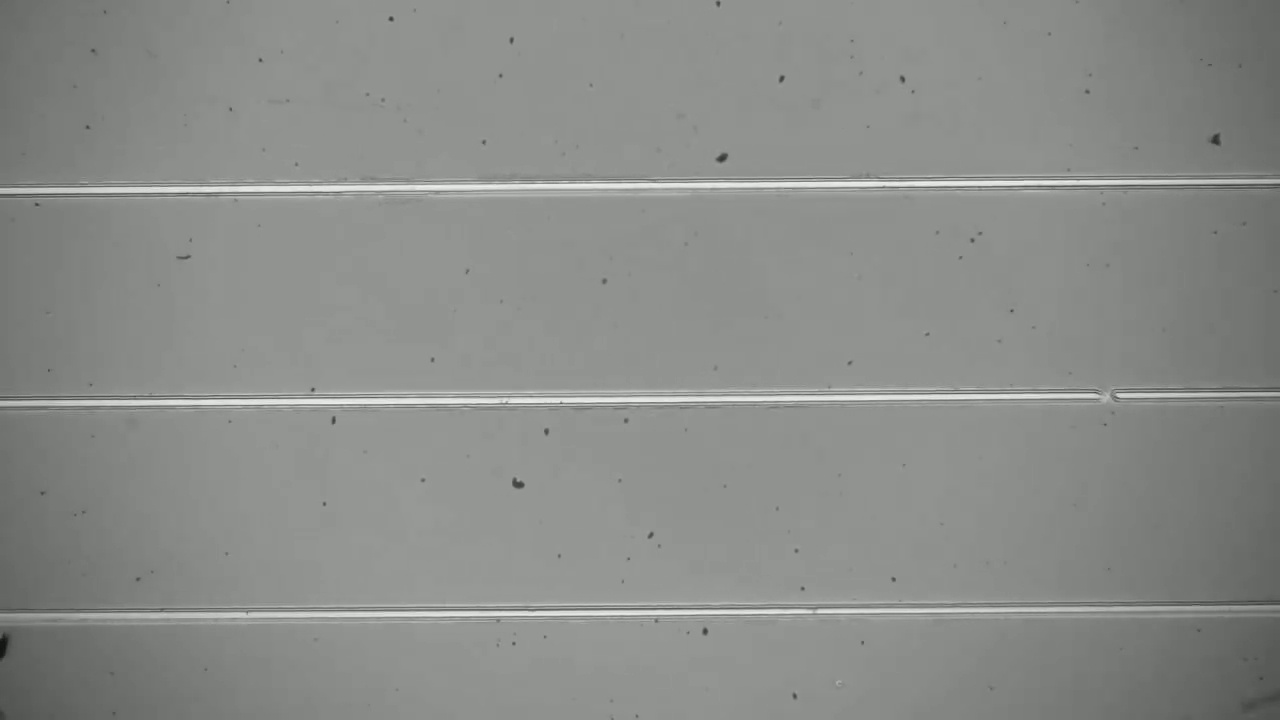open: (1081, 376, 1130, 418)
